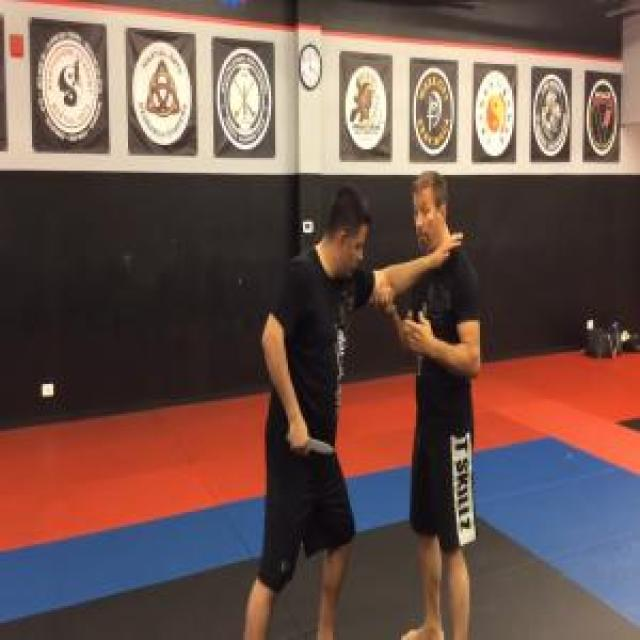knife: (286, 424, 337, 456)
